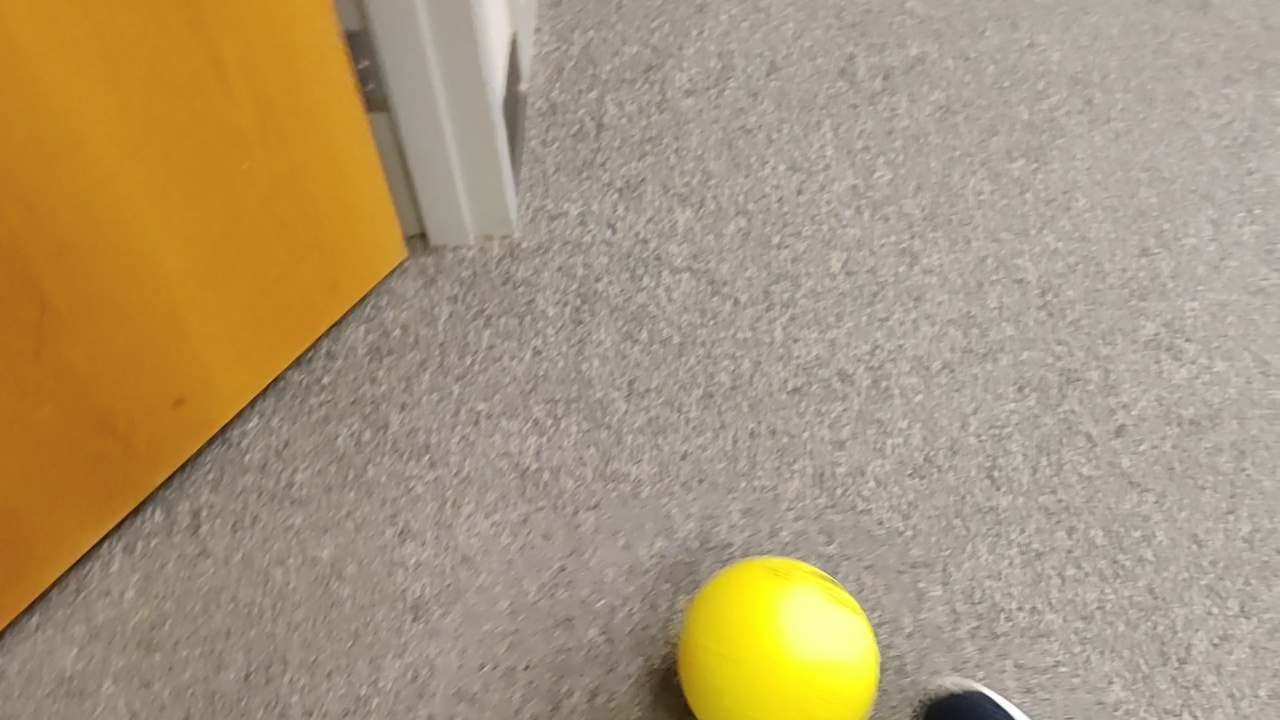Ball: (679, 552, 876, 720)
